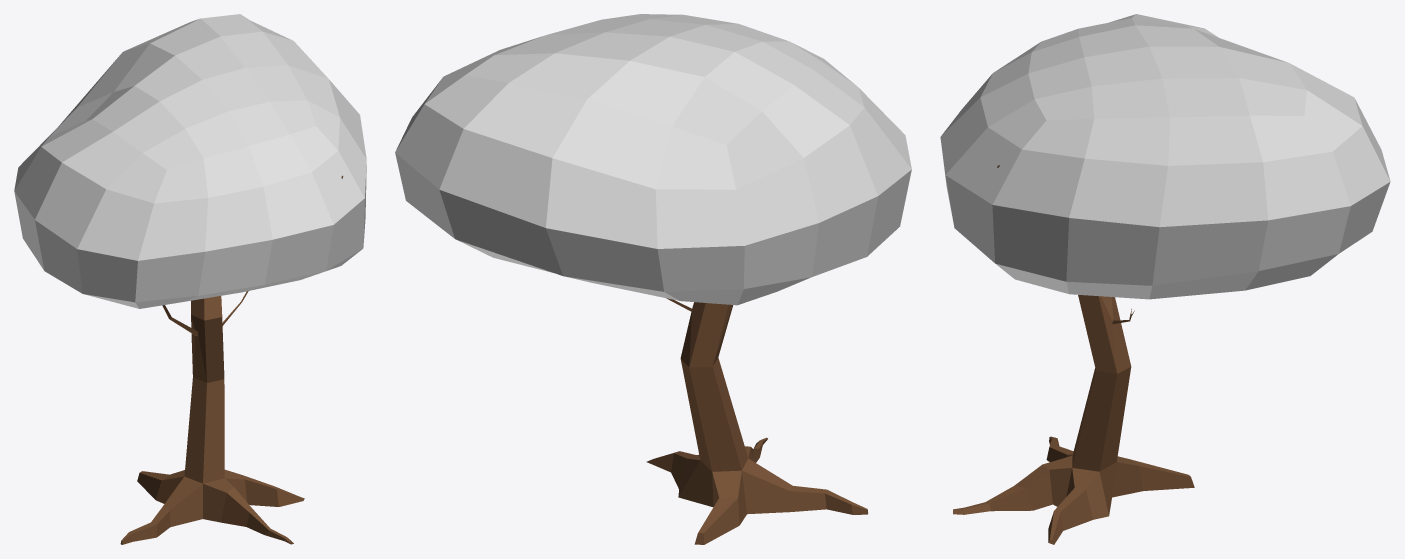
File: Tree_and_Texture_mesh.fbx
3 renders of one model, left to right at view 1: azimuth 30°, elevation 25°; view 2: azimuth 150°, elevation 25°; view 3: azimuth 270°, elevation 25°, orthographic. The views are drawn at different scales.
Parts seen in each view (by area): view 1: Cube, Cylinder.001; view 2: Cube, Cylinder.001; view 3: Cube, Cylinder.001.
Boxes of the visible parts, x1=… form: Cube: x1=14, y1=14, x2=366, y2=308; Cylinder.001: x1=120, y1=175, x2=343, y2=544; Cube: x1=395, y1=14, x2=911, y2=305; Cylinder.001: x1=646, y1=298, x2=868, y2=544; Cube: x1=940, y1=14, x2=1390, y2=299; Cylinder.001: x1=953, y1=165, x2=1194, y2=544.
Size of the model in its own units: 406 by 466 by 409.
